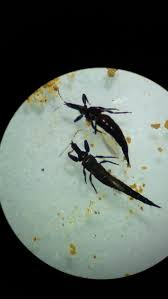Phlaeothripidae: (61, 127, 162, 211), (63, 94, 138, 169)
